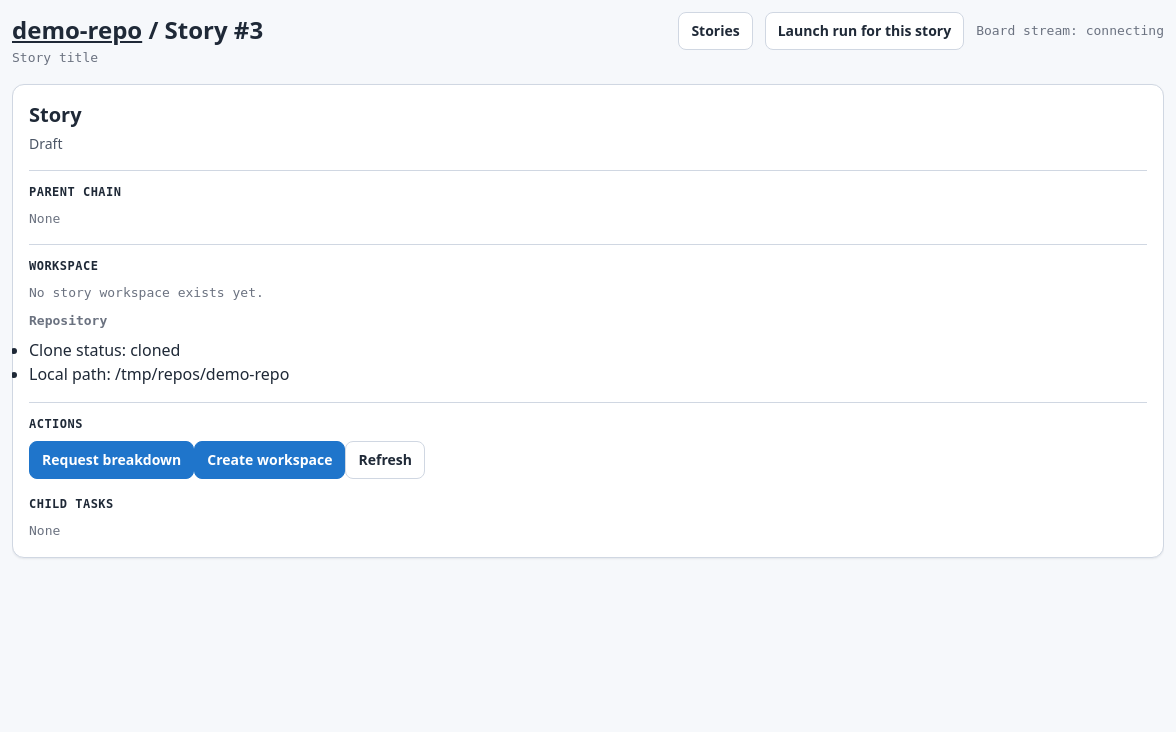
StoryDetailPageContent › requests breakdown by moving the story to NeedsBreakdown
Click the button "Request breakdown". click: (112, 460)
box: top-left (29, 441), bottom-right (194, 479)
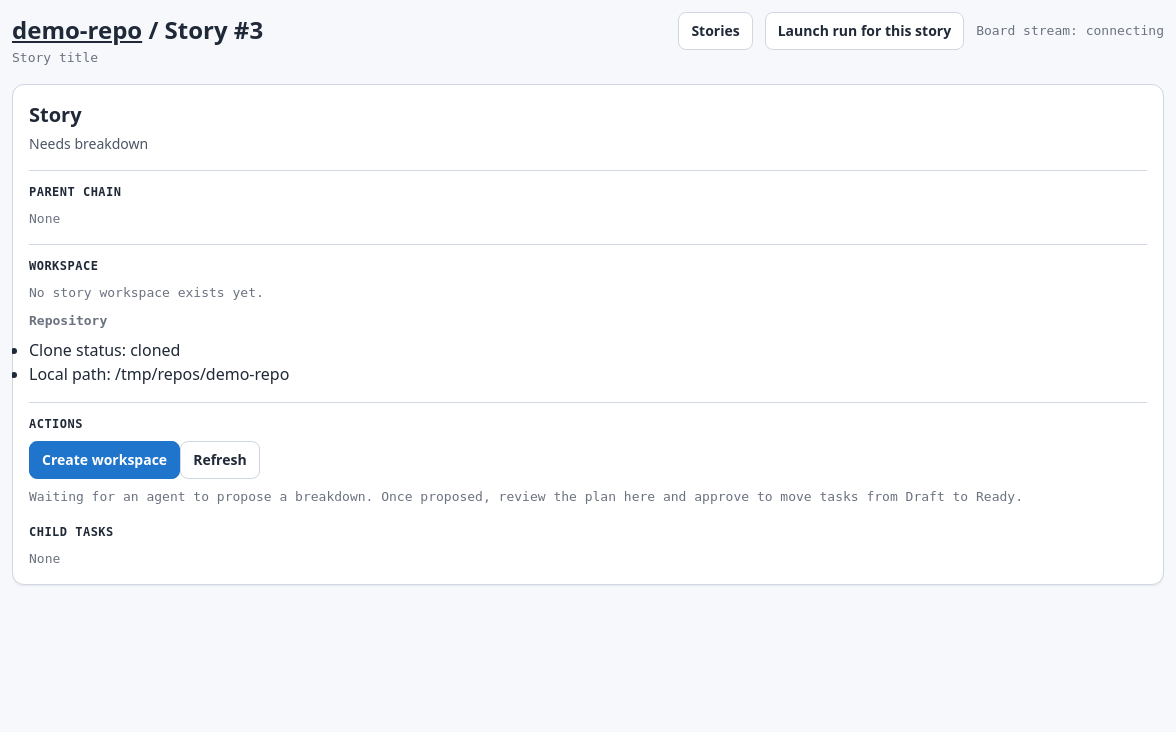
Check: the text "Needs breakdown" is shown, box top-left (29, 134), bottom-right (148, 152)
